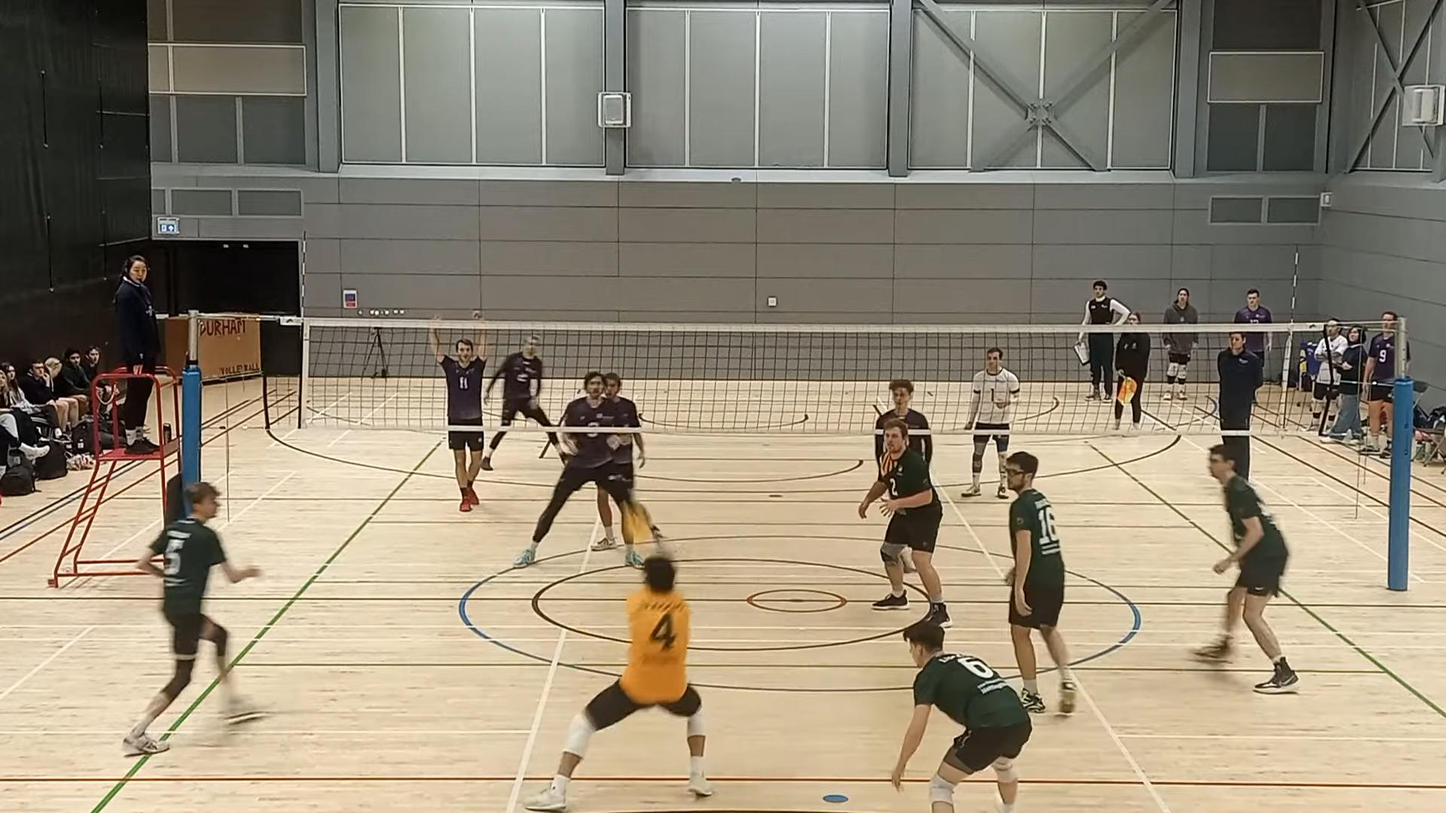Player: (124, 482, 259, 755), (891, 620, 1031, 812), (1194, 444, 1298, 693), (858, 419, 951, 626), (1006, 452, 1075, 714), (514, 431, 632, 567), (429, 327, 485, 510), (962, 347, 1020, 498), (484, 335, 552, 426), (874, 378, 933, 464), (874, 379, 932, 463), (592, 487, 617, 550)
Receive: (520, 549, 714, 811)
